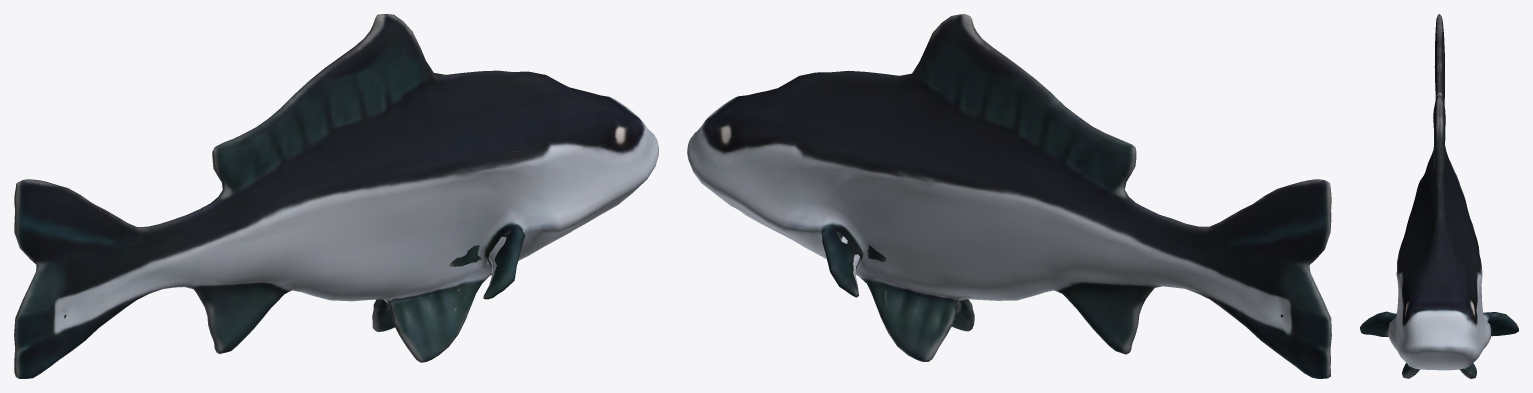
Rendered from fish_17.glb.
3 renders of one model, left to right at view 1: azimuth 30°, elevation 25°; view 2: azimuth 150°, elevation 25°; view 3: azimuth 270°, elevation 25°, orthographic. The views are drawn at different scales.
Visible parts, largest first — view 1: mesh; view 2: mesh; view 3: mesh.
Part boxes in pixels (<box>): mesh: <box>14,14,658,378</box>; mesh: <box>687,14,1331,378</box>; mesh: <box>1360,14,1518,378</box>.
Size of the model in its own units: 0.9939 by 0.5049 by 0.2655.
Materials: 1 (1 with a texture image).
